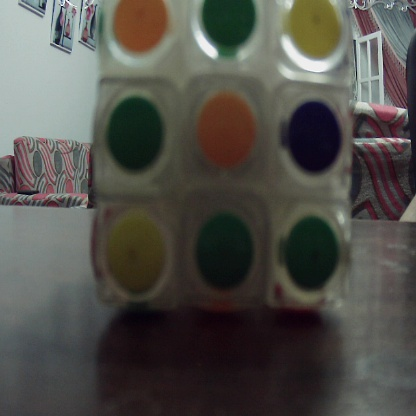Rubix Cube: (96, 2, 353, 311)
